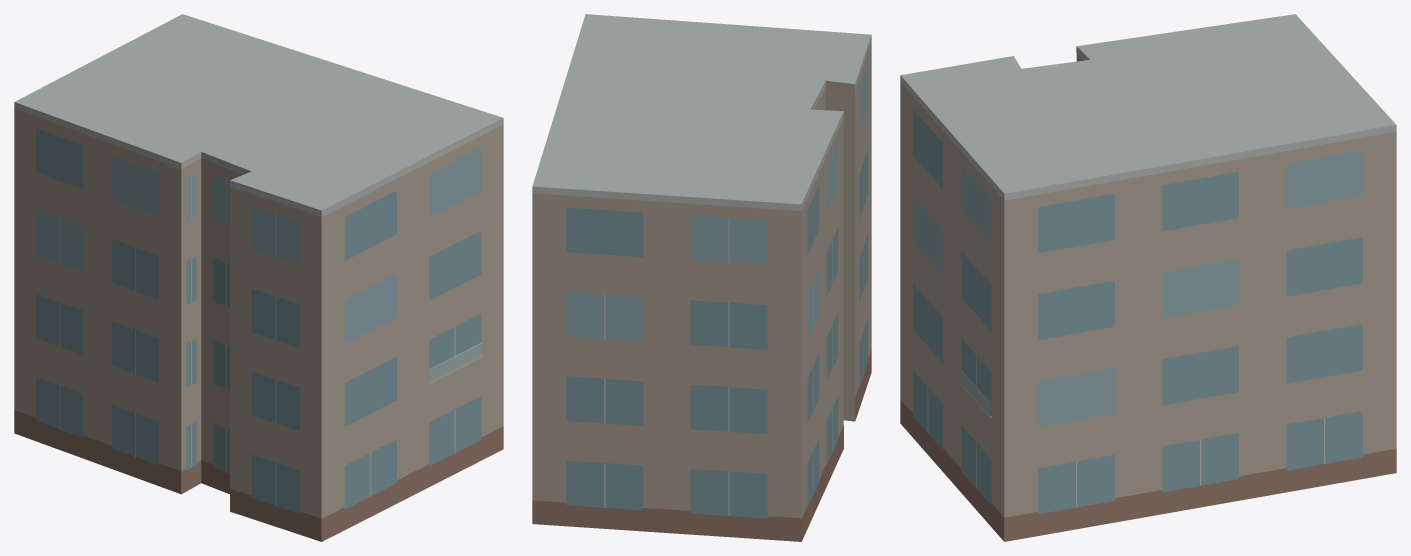
File: survey-upis-32842345.glb
The picture shows the model from 3 angles, left to right: view 1: azimuth 30°, elevation 25°; view 2: azimuth 150°, elevation 25°; view 3: azimuth 270°, elevation 25°; orthographic projection. The views are drawn at different scales.
Visible parts, largest first — view 1: survey-upis-32842345.tmp; view 2: survey-upis-32842345.tmp; view 3: survey-upis-32842345.tmp.
Boxes of the visible parts, bbox=[...] form: survey-upis-32842345.tmp: bbox=[14, 14, 503, 541]; survey-upis-32842345.tmp: bbox=[532, 14, 871, 541]; survey-upis-32842345.tmp: bbox=[900, 14, 1396, 541].
Size of the model in its own units: 13.74 by 12.4 by 16.03.
